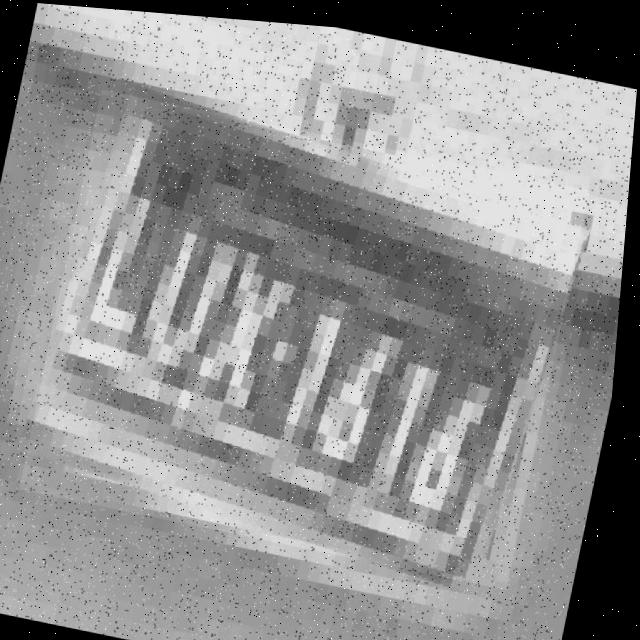LicensePlate: (23, 84, 595, 583)
